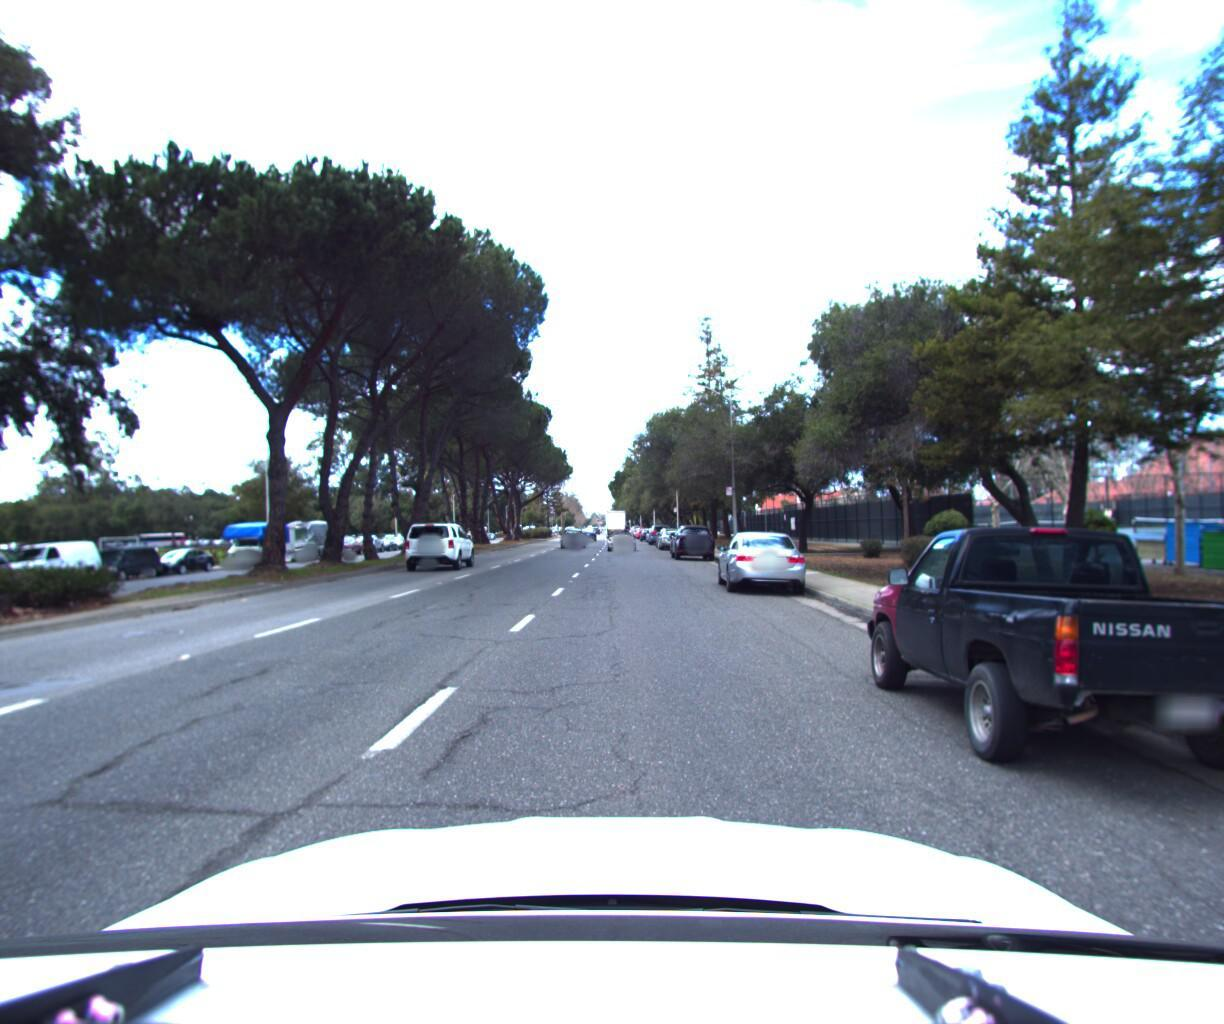car: (850, 507, 1224, 824), (712, 528, 817, 597), (0, 540, 116, 594), (402, 521, 484, 574), (82, 543, 172, 585), (152, 549, 225, 578), (669, 522, 719, 560), (0, 549, 33, 605), (606, 526, 640, 554), (655, 527, 689, 550), (335, 537, 370, 559), (558, 527, 587, 549), (647, 524, 673, 547)
other_vehicle: (223, 521, 310, 570), (285, 519, 352, 565)
